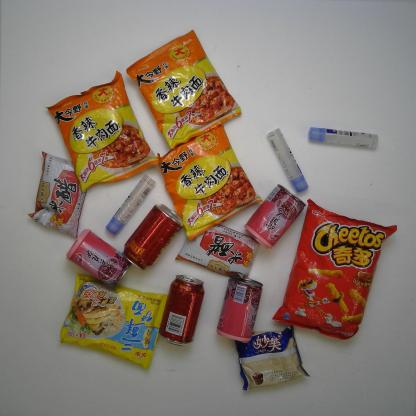Canned Food: (246, 185, 305, 247), (66, 230, 128, 286), (218, 273, 263, 344)
Dessert: (236, 320, 303, 395)
Drink: (126, 202, 184, 268), (158, 272, 207, 349)
Instant Noodles: (125, 26, 248, 154), (44, 70, 160, 190), (151, 123, 261, 240), (58, 270, 178, 374)
Puffed Food: (284, 191, 395, 340)
Seasoner: (28, 146, 110, 236), (177, 215, 262, 283)
Stationery: (104, 177, 158, 237), (264, 124, 308, 197), (308, 122, 380, 150)
